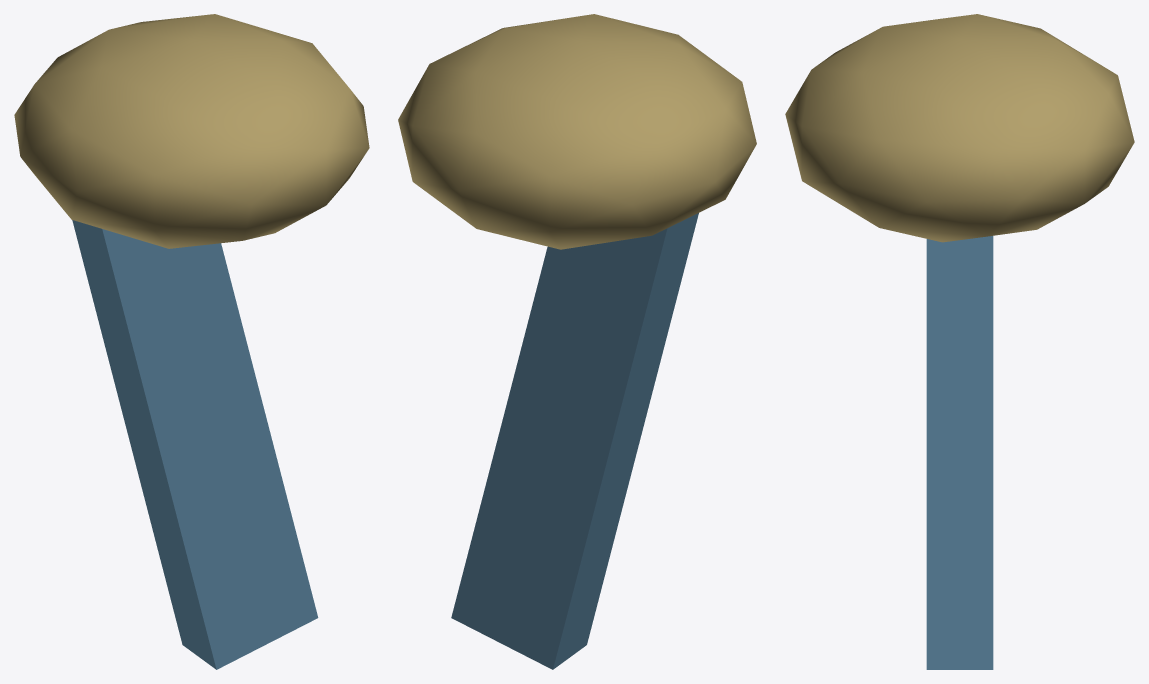
Rendered from accessory.glb.
3 renders of one model, left to right at view 1: azimuth 30°, elevation 25°; view 2: azimuth 150°, elevation 25°; view 3: azimuth 270°, elevation 25°, orthographic. The views are drawn at different scales.
Parts seen in each view (by area): view 1: emblem, emblem_ribbon; view 2: emblem, emblem_ribbon; view 3: emblem, emblem_ribbon.
Part boxes in pixels (x1,y1,x2,y2): emblem: (14,14,369,248); emblem_ribbon: (72,220,318,669); emblem: (398,14,756,249); emblem_ribbon: (451,213,698,669); emblem: (785,14,1134,242); emblem_ribbon: (926,236,993,669).
Bounding box in the file's own units: 0.2358 × 0.4503 × 0.2358.
